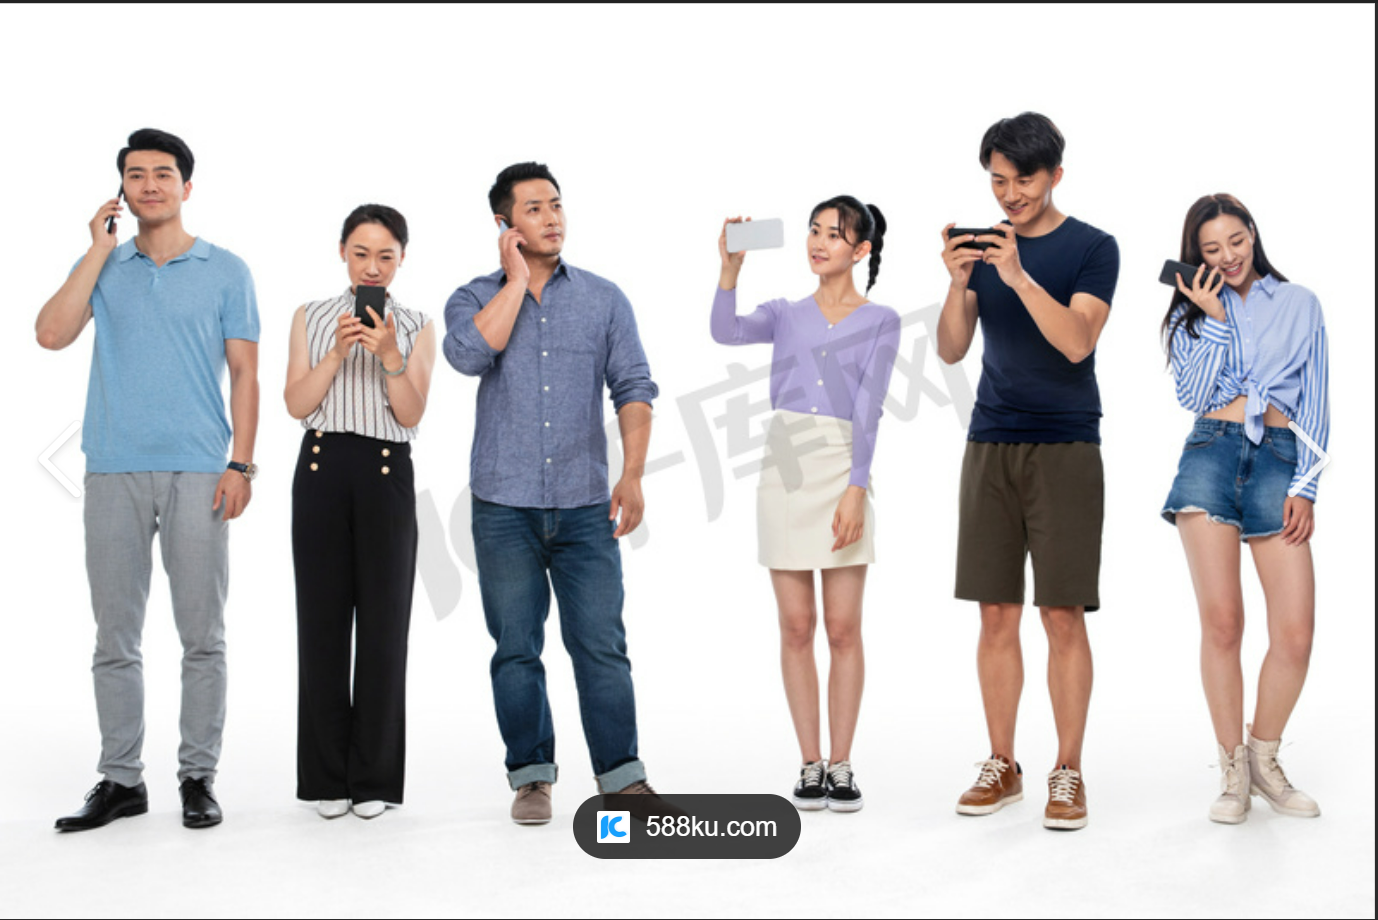people: (39, 104, 259, 857), (929, 83, 1127, 846), (442, 163, 660, 822), (707, 159, 906, 819), (1156, 172, 1338, 833), (274, 155, 428, 839)
